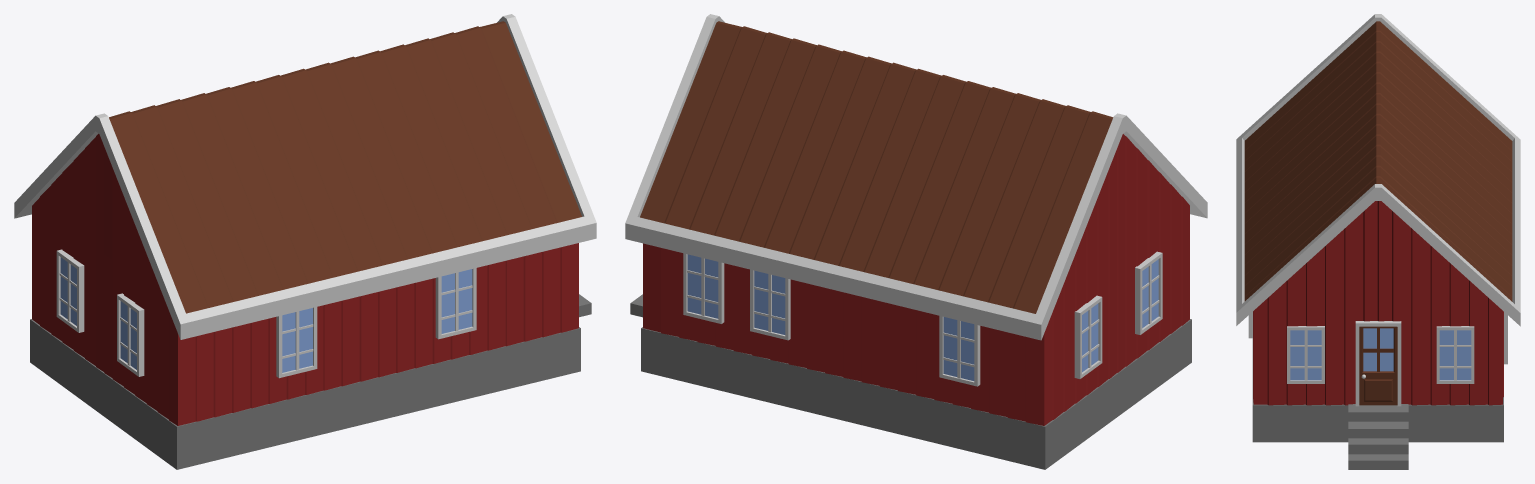
The model's file is norway.glb.
The picture shows the model from 3 angles, left to right: view 1: azimuth 30°, elevation 25°; view 2: azimuth 150°, elevation 25°; view 3: azimuth 270°, elevation 25°; orthographic projection. The views are drawn at different scales.
Parts seen in each view (by area): view 1: Plane, Plane.001, Window.005, Window.006, Window.008, Window.007; view 2: Plane, Plane.001, Window.004, Window.002, Window.003, Window.008, Window.007; view 3: Plane, Plane.001, Window.061, Cube.036, Window.001, Window.023.
Part boxes in pixels (x1,y1,x2,y2): Plane: (14, 14, 596, 469); Plane.001: (32, 133, 578, 425); Window.005: (276, 307, 317, 378); Window.006: (435, 268, 476, 339); Window.008: (56, 249, 84, 332); Window.007: (117, 293, 144, 376); Plane: (625, 14, 1207, 469); Plane.001: (643, 134, 1189, 425); Window.004: (939, 316, 980, 386); Window.002: (683, 253, 724, 323); Window.003: (750, 269, 790, 340); Window.008: (1074, 295, 1102, 378); Window.007: (1135, 251, 1162, 334); Plane: (1236, 14, 1520, 442); Plane.001: (1253, 201, 1503, 405); Window.061: (1355, 321, 1401, 406); Cube.036: (1348, 404, 1408, 469); Window.001: (1436, 326, 1474, 383); Window.023: (1287, 326, 1324, 383).
Size of the model in its own units: 4.63 by 2.79 by 2.8.
